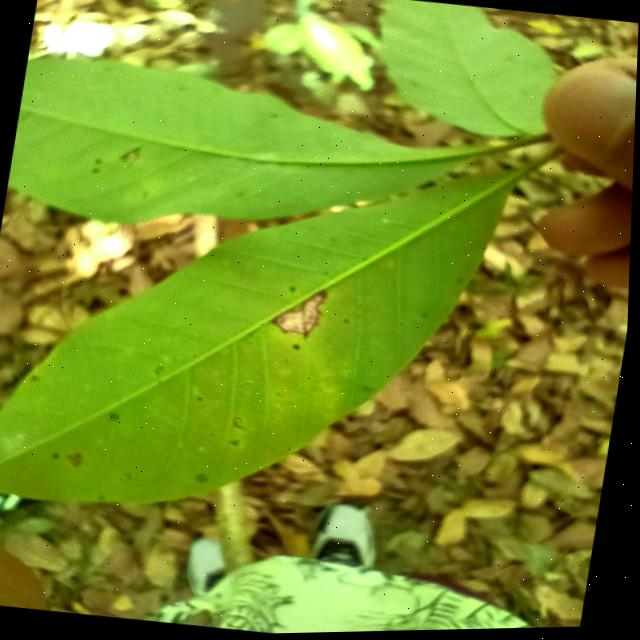Colletotrichum: (295, 344, 304, 352)
Leaf-Blight: (277, 293, 324, 336)
